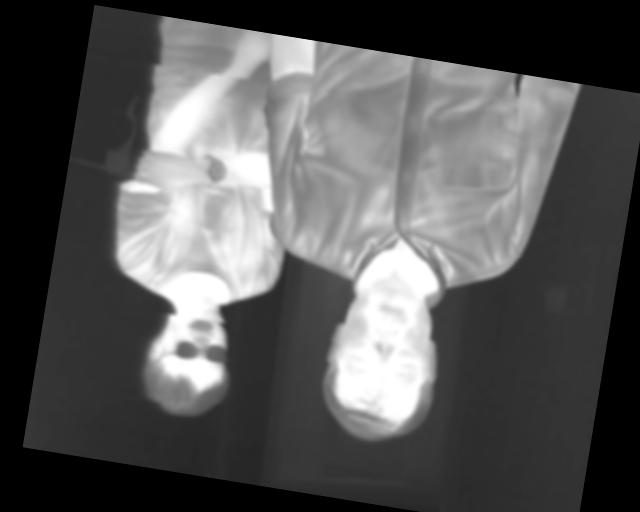face: (313, 266, 451, 452), (137, 292, 240, 423)
